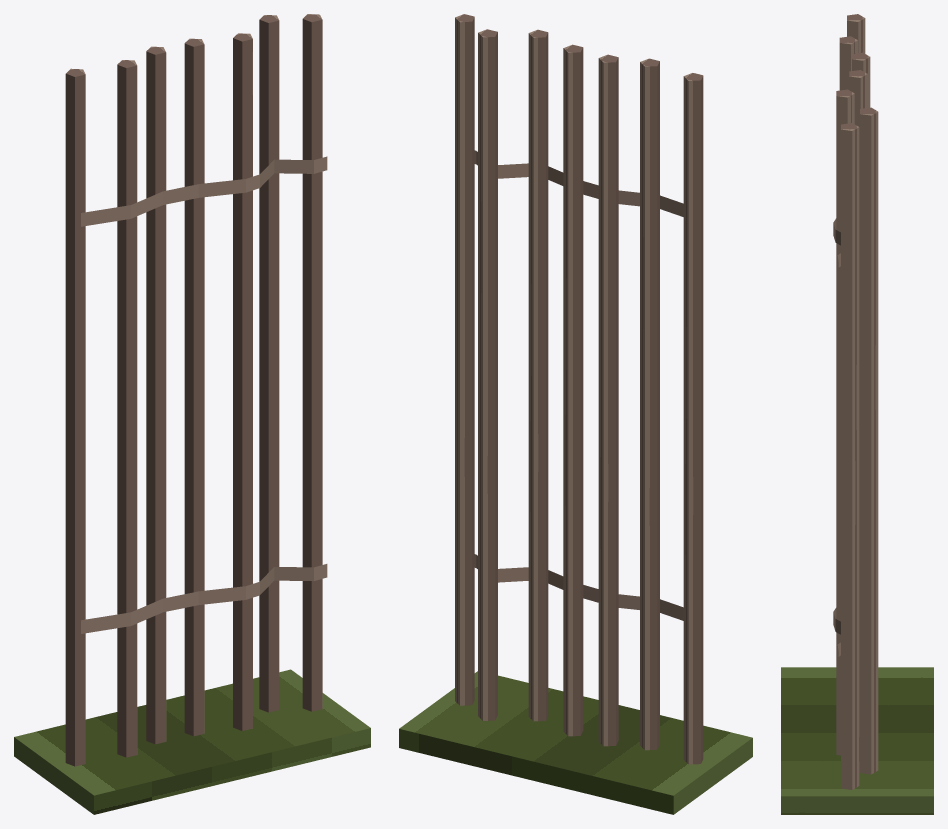
File: wall_909x06.gltf
3 views of the same model, side by side, from view 1: azimuth 30°, elevation 25°; view 2: azimuth 150°, elevation 25°; view 3: azimuth 270°, elevation 25° (orthographic). The views are drawn at different scales.
Parts seen in each view (by area): view 1: wall_909x06; view 2: wall_909x06; view 3: wall_909x06.
Part boxes in pixels (x1,y1,x2,y2): wall_909x06: (14,14,370,814); wall_909x06: (399,14,752,814); wall_909x06: (781,14,933,814).
Size of the model in its own units: 2 by 4.89 by 1.
Materials: 1 (1 with a texture image).
